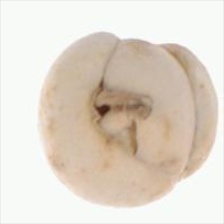L3: (84, 82, 152, 152)
L4: (38, 32, 218, 208)
